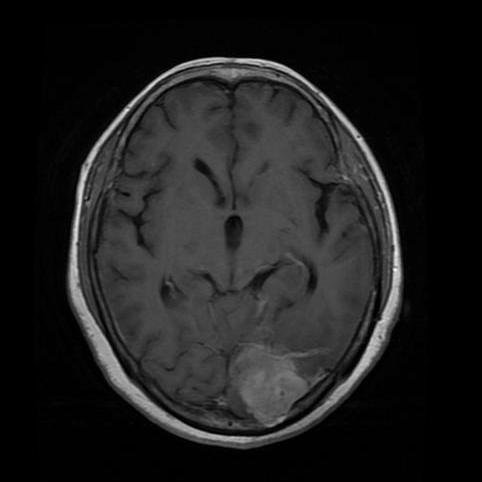Tumour-Meningioma: (192, 324, 315, 432)
